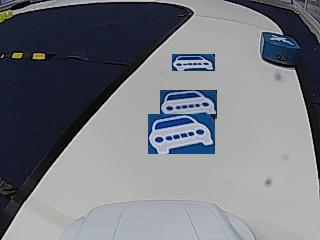prop: (260, 32, 301, 67)
